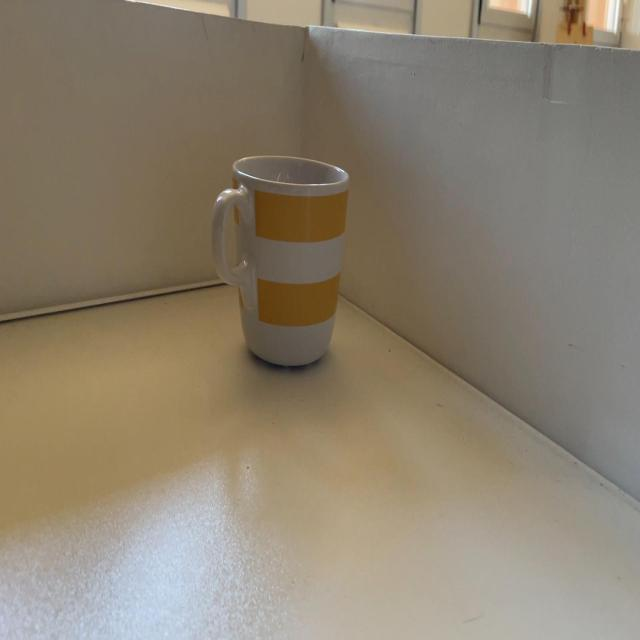cup: (213, 155, 350, 373)
